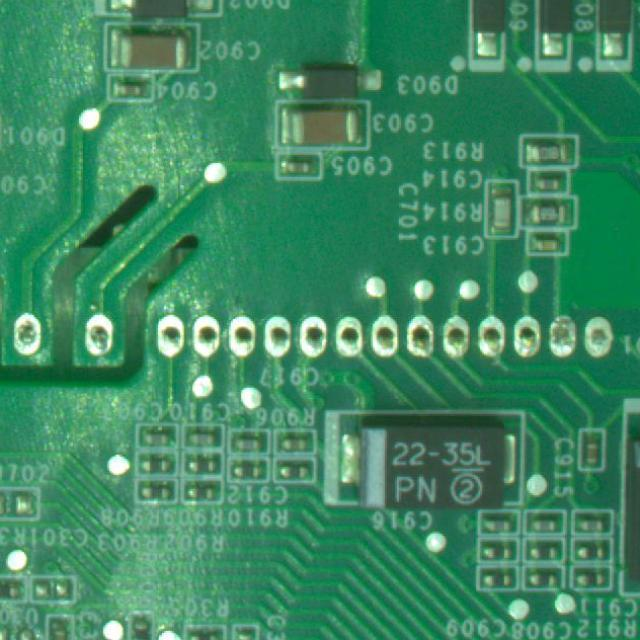Insufficient solder: (77, 306, 120, 364), (183, 312, 227, 366), (292, 313, 332, 368), (256, 312, 300, 362), (9, 306, 48, 362), (505, 306, 543, 362), (438, 308, 476, 364), (396, 314, 444, 358), (330, 310, 368, 364), (226, 308, 264, 361), (474, 310, 514, 360), (581, 313, 621, 358), (152, 312, 190, 358), (368, 312, 404, 360)
